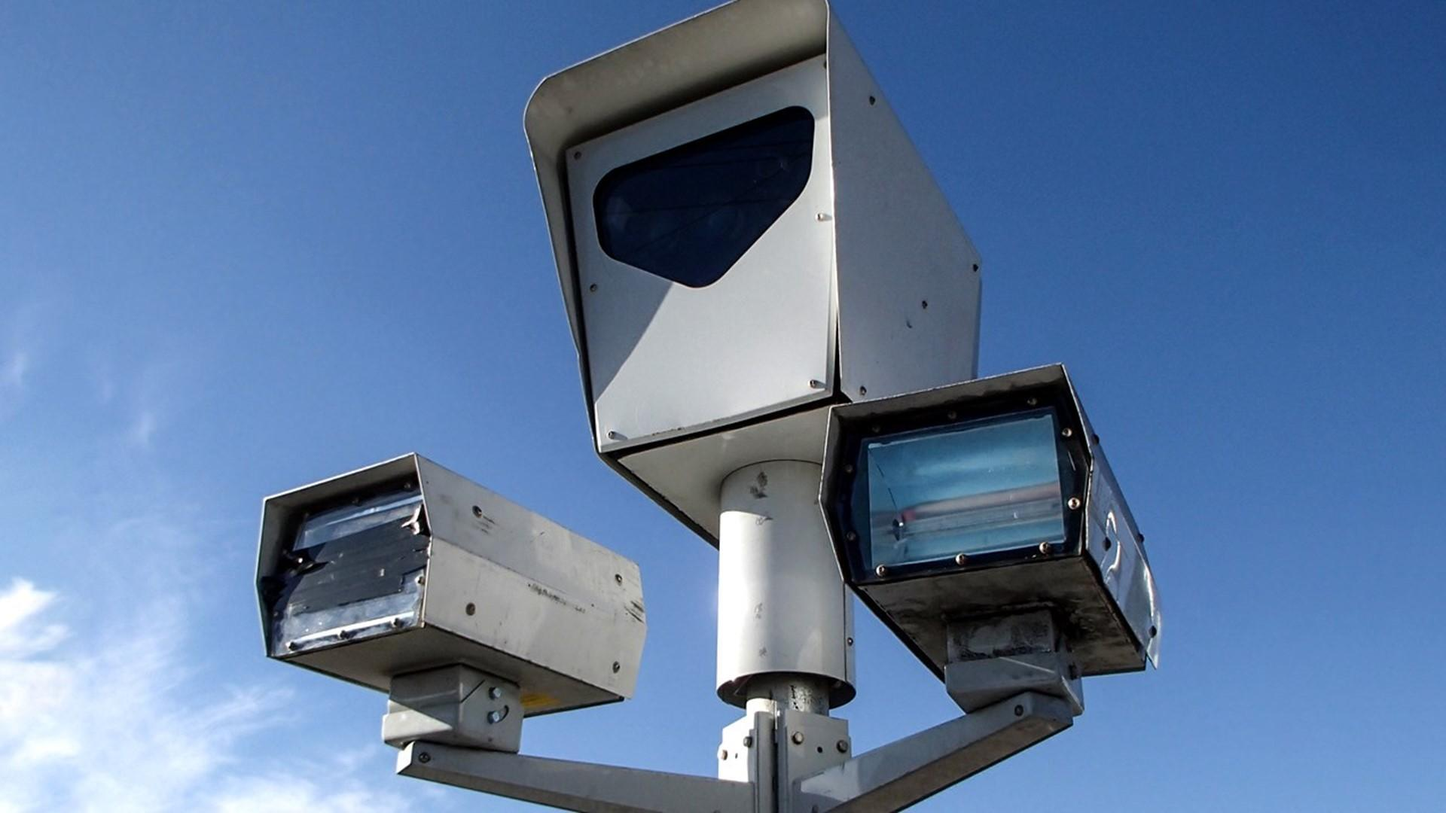Monitor: (485, 26, 934, 474), (236, 455, 710, 726), (818, 360, 1161, 689)
